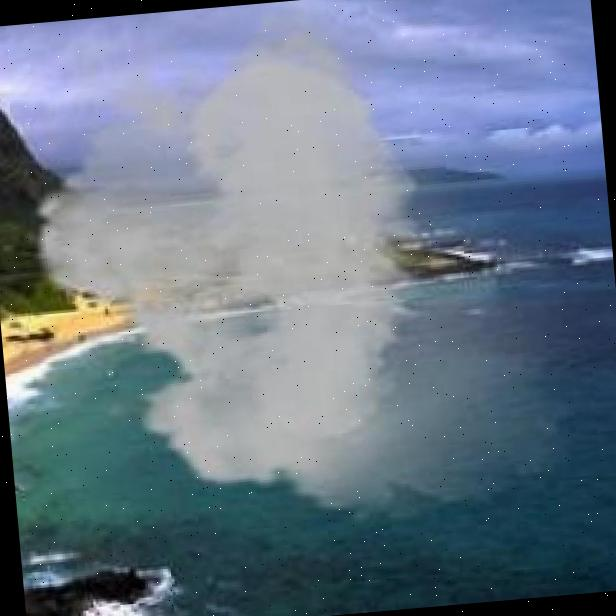smoke: (0, 0, 609, 550)
